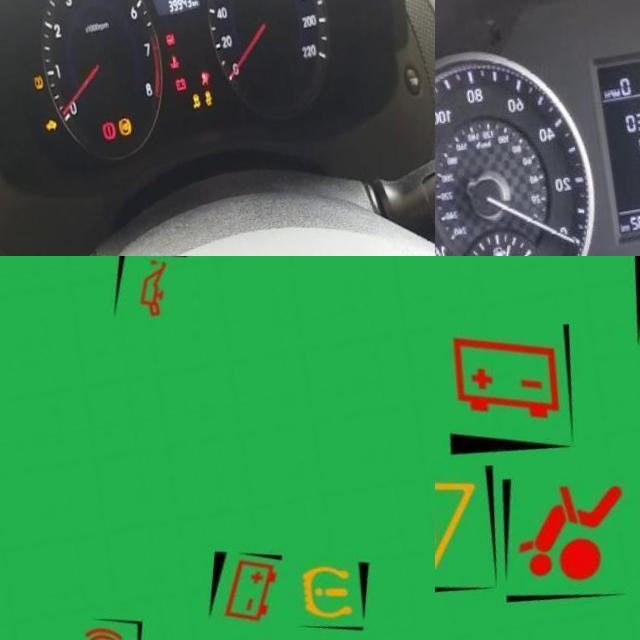Electronic Power Steering: (157, 44, 168, 58)
High Engine Coolant Temperature: (160, 66, 171, 81)
